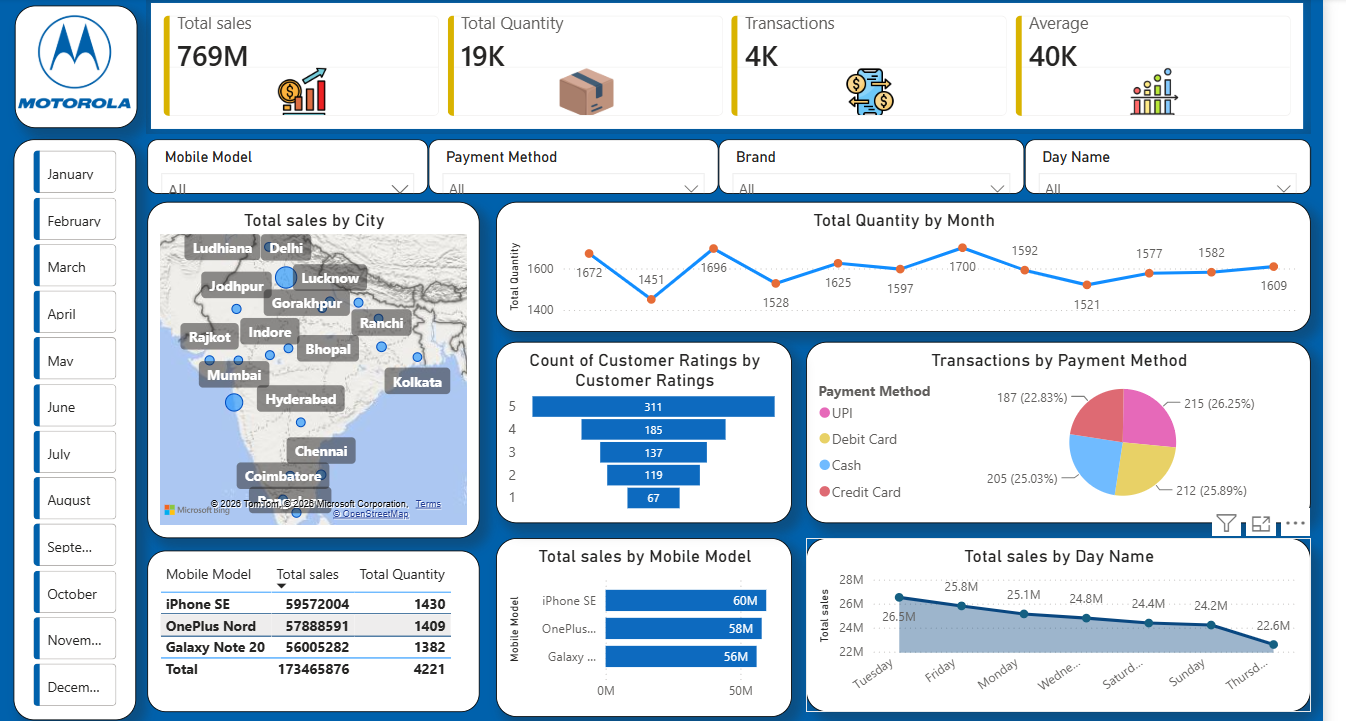

The dashboard page shown, as its layout file describes it:
{"tool":"powerbi","page":{"name":"Page 1","canvas":[1280,720],"ordinal":0},"visuals":[{"type":"shape","box":[18.1,7.2,118.2,118.2],"z":0},{"type":"image","box":[10.9,7.2,129.1,108.6],"z":1000},{"type":"shape","box":[16.9,136.3,118.2,561],"z":2000},{"type":"advancedSlicerVisual","fields":{"Values":["SALES DATA.DATE.Variation.Date Hierarchy.Month"]},"box":[31.4,142.4,90.5,546.5],"z":3000},{"type":"cardVisual","fields":{"Data":["SALES DATA.Total sales","SALES DATA.Total Quantity","SALES DATA.Transactions","SALES DATA.Average"]},"box":[144.8,0,1124.4,131.5],"z":4000},{"type":"map","fields":{"Category":["SALES DATA.City"],"Size":["SALES DATA.Total sales"]},"box":[146,196.6,320.9,324.5],"z":5000},{"type":"lineChart","fields":{"Category":["SALES DATA.DATE.Variation.Date Hierarchy.Month","SALES DATA.DATE.Variation.Date Hierarchy.Day"],"Y":["SALES DATA.Total Quantity"]},"box":[482.6,196.6,786.6,125.5],"z":6000},{"type":"clusteredBarChart","fields":{"Category":["SALES DATA.Mobile Model"],"Y":["SALES DATA.Total sales"]},"box":[482.6,521.2,285.9,172.5],"z":6001},{"type":"pieChart","fields":{"Category":["SALES DATA.Payment Method"],"Y":["SALES DATA.Transactions"]},"box":[781.8,331.8,487.4,174.9],"z":6002},{"type":"funnel","fields":{"Category":["SALES DATA.Customer Ratings"],"Y":["CountNonNull(SALES DATA.Customer Ratings)"]},"box":[482.6,331.8,285.9,174.9],"z":6003},{"type":"areaChart","fields":{"Category":["SALES DATA.Day Name"],"Y":["SALES DATA.Total sales"]},"box":[781.8,521.2,487.4,167.7],"z":6004},{"type":"tableEx","fields":{"Values":["SALES DATA.Mobile Model","SALES DATA.Total sales","SALES DATA.Total Quantity"]},"box":[146,533.2,320.9,155.6],"z":6005},{"type":"slicer","fields":{"Values":["SALES DATA.Mobile Model"]},"box":[146,136.3,271.4,53.1],"z":6006},{"type":"slicer","fields":{"Values":["SALES DATA.Payment Method"]},"box":[417.4,136.3,279.9,53.1],"z":6007},{"type":"slicer","fields":{"Values":["SALES DATA.Brand"]},"box":[697.3,136.3,295.6,53.1],"z":6008},{"type":"slicer","fields":{"Values":["SALES DATA.Day Name"]},"box":[992.9,136.3,276.3,53.1],"z":6009}]}

Visuals, with their boxes in screenshot pixels (x1, y1, x2, y2):
shape: <box>19,7,140,129</box>
image: <box>11,7,144,119</box>
shape: <box>17,140,139,715</box>
advancedSlicerVisual - SALES DATA.DATE.Variation.Date Hierarchy.Month: <box>32,146,125,706</box>
cardVisual - SALES DATA.Total sales x SALES DATA.Total Quantity: <box>148,0,1301,135</box>
map - SALES DATA.City x SALES DATA.Total sales: <box>150,202,479,534</box>
lineChart - SALES DATA.DATE.Variation.Date Hierarchy.Month x SALES DATA.DATE.Variation.Date Hierarchy.Day: <box>495,202,1301,330</box>
clusteredBarChart - SALES DATA.Mobile Model x SALES DATA.Total sales: <box>495,534,788,711</box>
pieChart - SALES DATA.Payment Method x SALES DATA.Transactions: <box>802,340,1301,520</box>
funnel - SALES DATA.Customer Ratings x CountNonNull(SALES DATA.Customer Ratings): <box>495,340,788,520</box>
areaChart - SALES DATA.Day Name x SALES DATA.Total sales: <box>802,534,1301,706</box>
tableEx - SALES DATA.Mobile Model x SALES DATA.Total sales: <box>150,547,479,706</box>
slicer - SALES DATA.Mobile Model: <box>150,140,428,194</box>
slicer - SALES DATA.Payment Method: <box>428,140,715,194</box>
slicer - SALES DATA.Brand: <box>715,140,1018,194</box>
slicer - SALES DATA.Day Name: <box>1018,140,1301,194</box>
